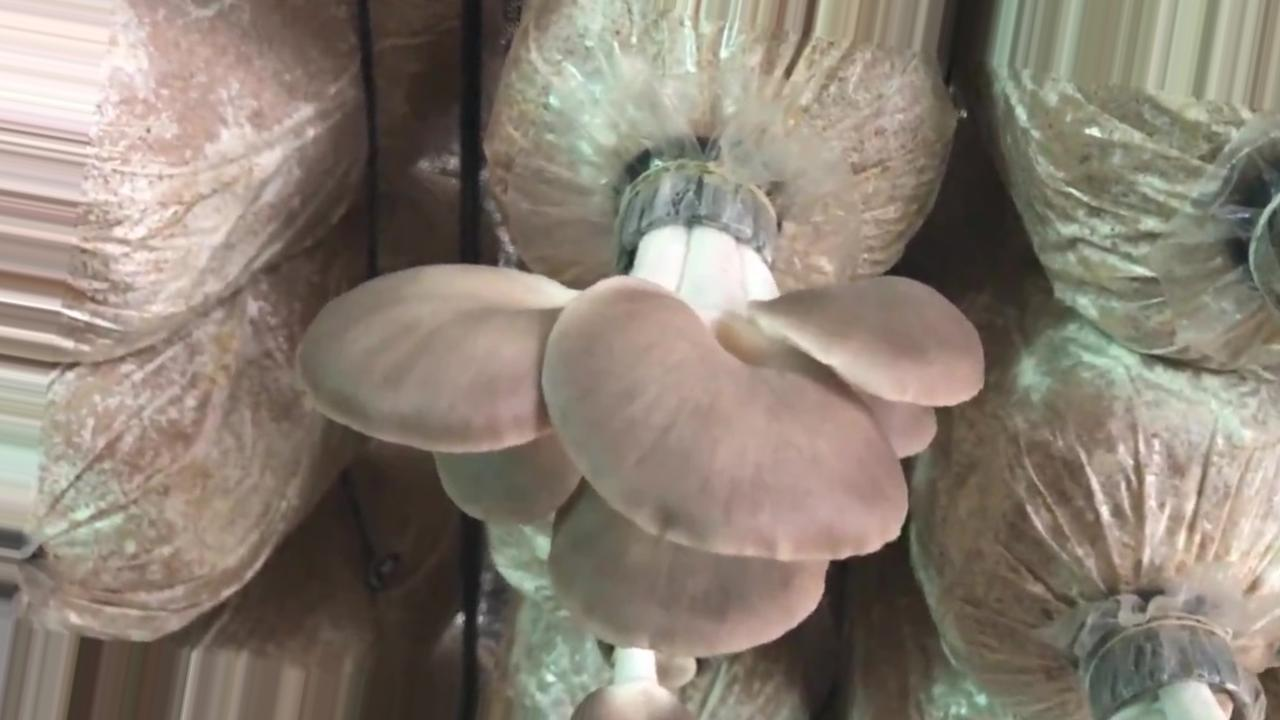nam: (298, 167, 986, 656), (574, 643, 698, 720)
